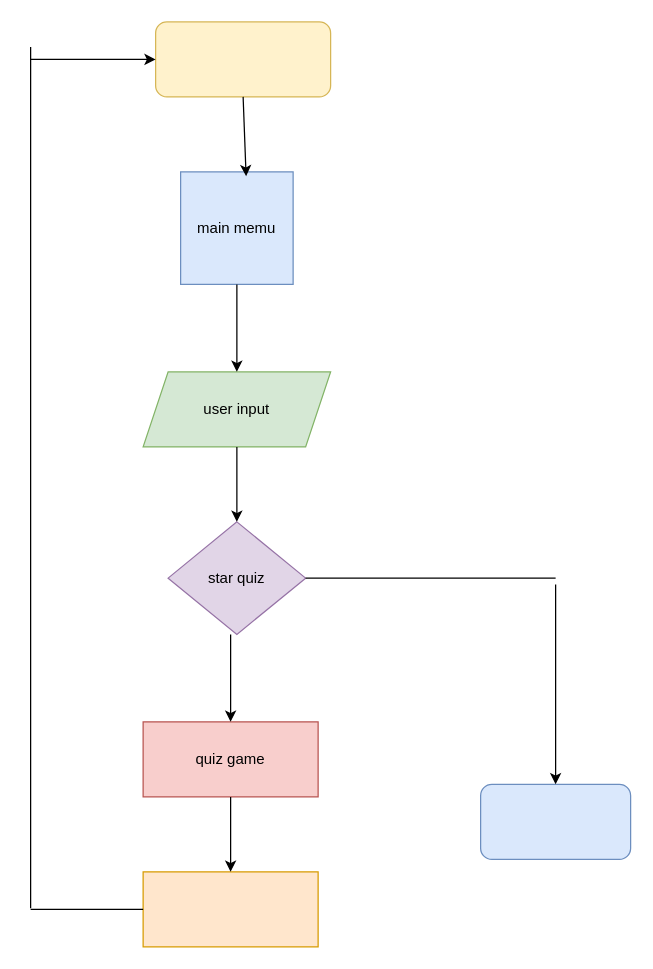
The diagram is 653 pixels wide and 969 high, and some of its shapes have lost their labels. The shapes that lost their labels are listed below. From the top down, each one's centre as x and y in pixels, then its label:
At pixel 242 59: "start".
At pixel 230 909: "display score".
